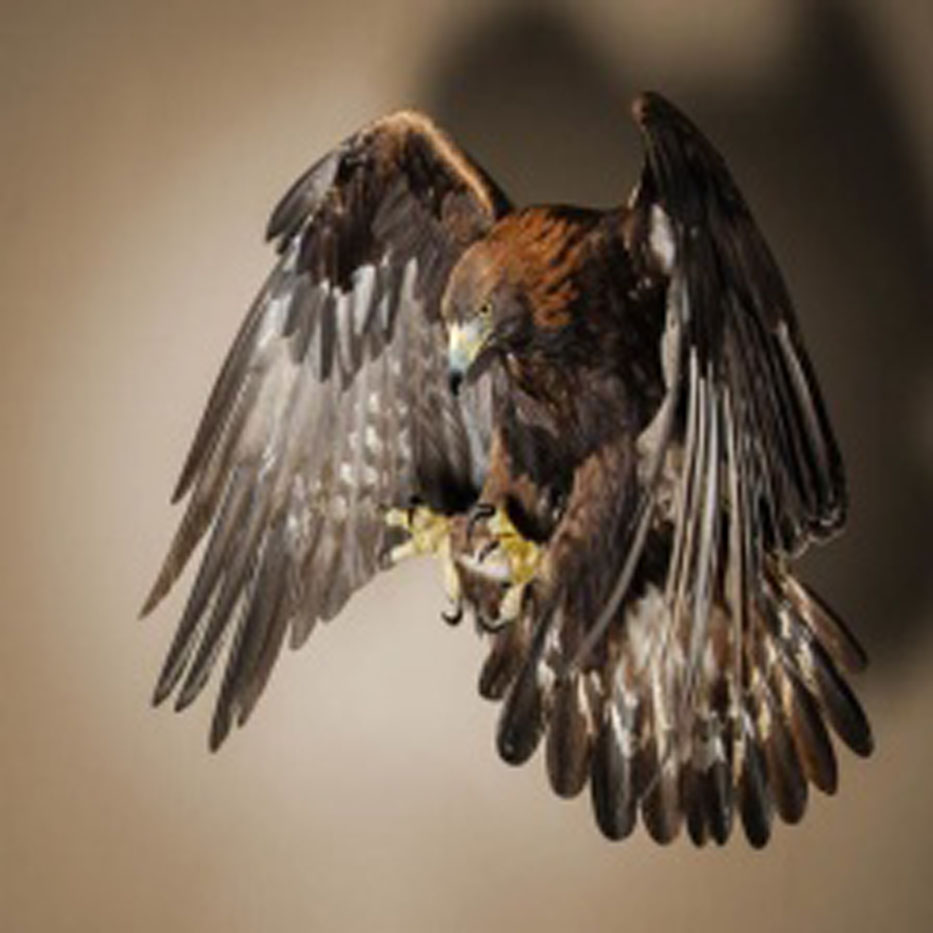Pengoyak Daging: (434, 330, 491, 394)
